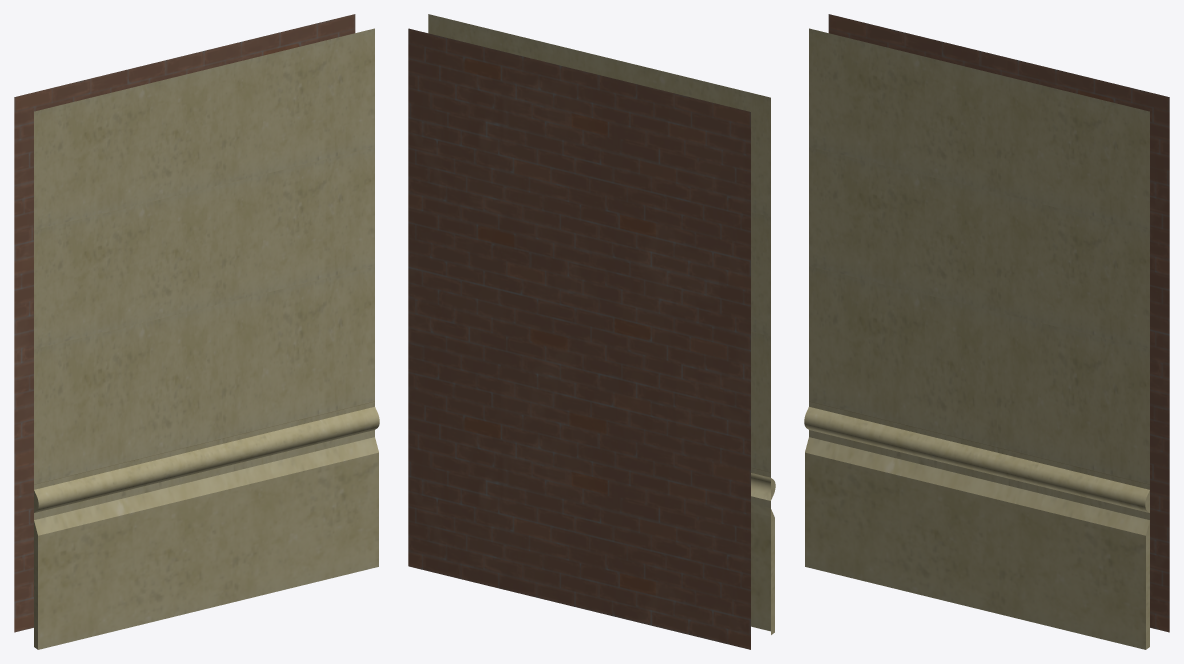
File: trim_firstfloor_wall.glb
The picture shows the model from 3 angles, left to right: view 1: azimuth 30°, elevation 25°; view 2: azimuth 150°, elevation 25°; view 3: azimuth 330°, elevation 25°; orthographic projection.
Visible parts, largest first — view 1: Trim_FirstFloor_Wall; view 2: Trim_FirstFloor_Wall; view 3: Trim_FirstFloor_Wall.
Part boxes in pixels (x1=…): Trim_FirstFloor_Wall: x1=14, y1=14, x2=379, y2=649; Trim_FirstFloor_Wall: x1=408, y1=14, x2=775, y2=649; Trim_FirstFloor_Wall: x1=804, y1=14, x2=1169, y2=649.
Size of the model in its own units: 2 by 3 by 0.2478.
Materials: 2 (2 with a texture image).
